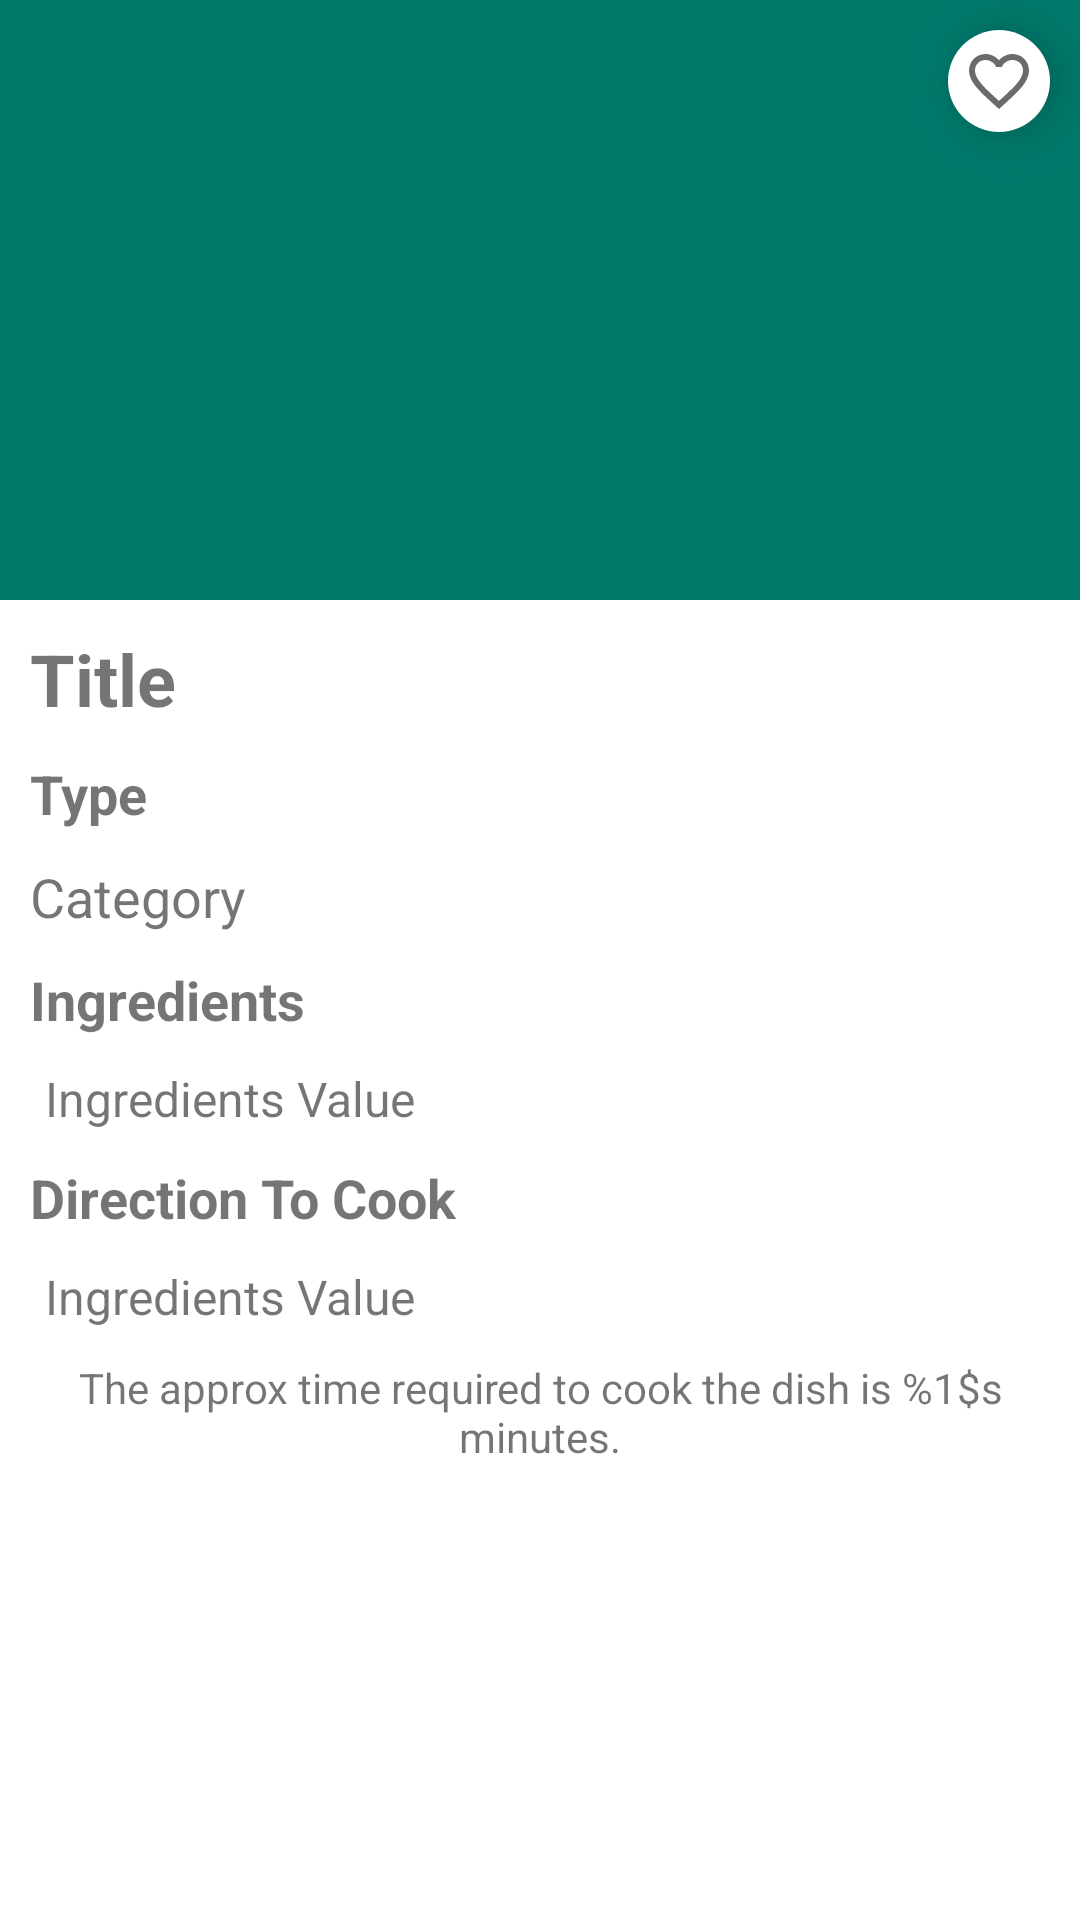

Icons on this 1080px x 1920px Android screen, each with its box as (x1, y1, x2, y2):
favorite: (969, 54, 1029, 109)
